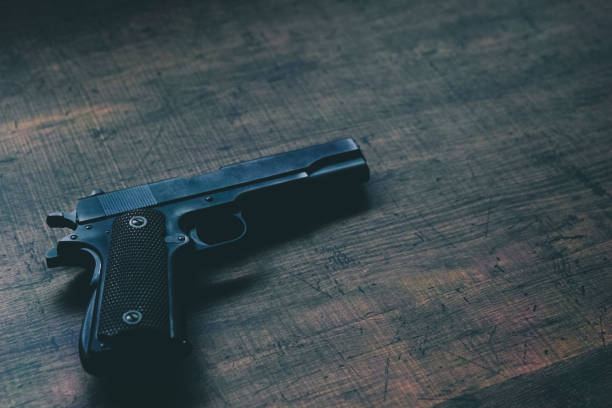gun: (44, 136, 375, 378)
